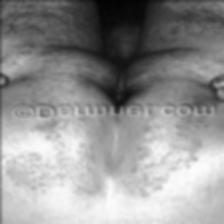Toxin: (30, 122, 68, 136), (170, 138, 196, 154)
